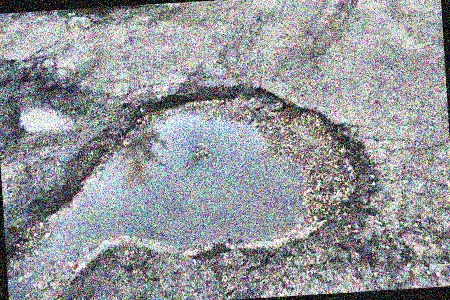pothole: (47, 70, 384, 269), (0, 65, 85, 139), (50, 7, 115, 24)
